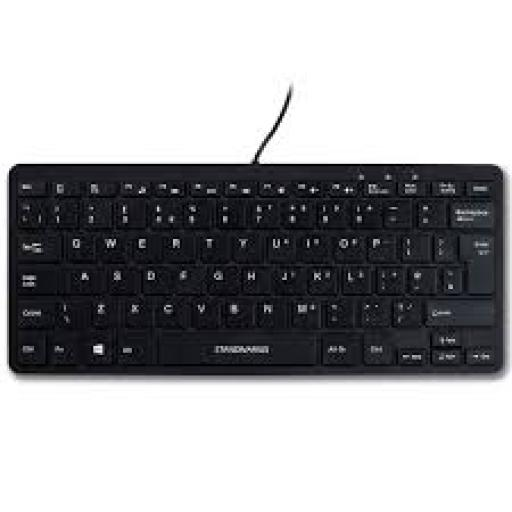KEYBOARD-2: (7, 93, 505, 375)
